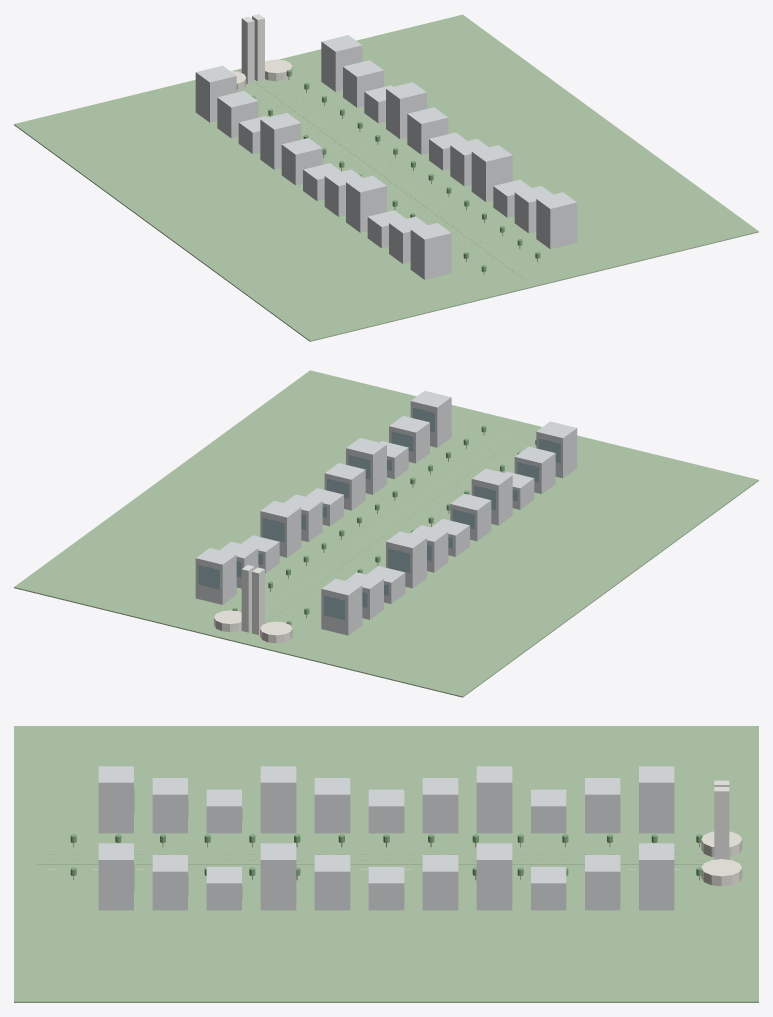
The model's file is brasilia-eixo-monumental.glb.
3 renders of one model, top to bottom at view 1: azimuth 30°, elevation 25°; view 2: azimuth 150°, elevation 25°; view 3: azimuth 270°, elevation 25°, orthographic. The views are drawn at different scales.
Parts seen in each view (by area): view 1: ground_0000, city_building_0291, city_building_0289, city_building_0279, city_building_0277, city_building_0249, city_building_0251, city_building_0261, city_building_0263, city_building_0267, city_building_0253, city_building_0265 (+14 smaller); view 2: ground_0000, city_building_0251, city_building_0249, city_building_0263, city_building_0261, city_building_0289, city_building_0277, city_building_0291, city_building_0279, city_building_0273, city_building_0285, city_building_0275 (+16 smaller); view 3: ground_0000, city_building_0261, city_building_0263, city_building_0277, city_building_0279, city_building_0249, city_building_0251, city_building_0289, city_building_0291, city_building_0265, city_building_0267, city_building_0273 (+15 smaller).
Boxes of the visible parts, bbox=[...] form: ground_0000: bbox=[14, 14, 758, 341]; city_building_0291: bbox=[536, 192, 577, 249]; city_building_0289: bbox=[410, 223, 451, 279]; city_building_0279: bbox=[471, 145, 512, 201]; city_building_0277: bbox=[346, 175, 386, 232]; city_building_0249: bbox=[195, 65, 236, 122]; city_building_0251: bbox=[321, 35, 362, 91]; city_building_0261: bbox=[260, 113, 301, 169]; city_building_0263: bbox=[386, 82, 426, 138]; city_building_0267: bbox=[407, 107, 448, 154]; city_building_0253: bbox=[217, 91, 258, 138]; city_building_0265: bbox=[281, 138, 322, 185]; ground_0000: bbox=[14, 370, 758, 697]; city_building_0251: bbox=[195, 548, 236, 604]; city_building_0249: bbox=[321, 578, 362, 635]; city_building_0263: bbox=[260, 500, 301, 557]; city_building_0261: bbox=[386, 531, 426, 588]; city_building_0289: bbox=[536, 421, 577, 478]; city_building_0277: bbox=[471, 468, 512, 525]; city_building_0291: bbox=[410, 390, 451, 447]; city_building_0279: bbox=[346, 438, 386, 494]; city_building_0273: bbox=[450, 493, 491, 541]; city_building_0285: bbox=[514, 446, 555, 493]; city_building_0275: bbox=[324, 463, 365, 510]; ground_0000: bbox=[14, 726, 758, 1002]; city_building_0261: bbox=[476, 766, 512, 833]; city_building_0263: bbox=[476, 843, 512, 910]; city_building_0277: bbox=[260, 766, 296, 833]; city_building_0279: bbox=[260, 843, 296, 910]; city_building_0249: bbox=[639, 766, 674, 833]; city_building_0251: bbox=[639, 843, 674, 910]; city_building_0289: bbox=[98, 766, 133, 833]; city_building_0291: bbox=[98, 843, 133, 910]; city_building_0265: bbox=[422, 778, 458, 833]; city_building_0267: bbox=[422, 855, 458, 910]; city_building_0273: bbox=[314, 778, 350, 833].
Size of what is drawn, in the model's own units: 350 by 46.9 by 400.
